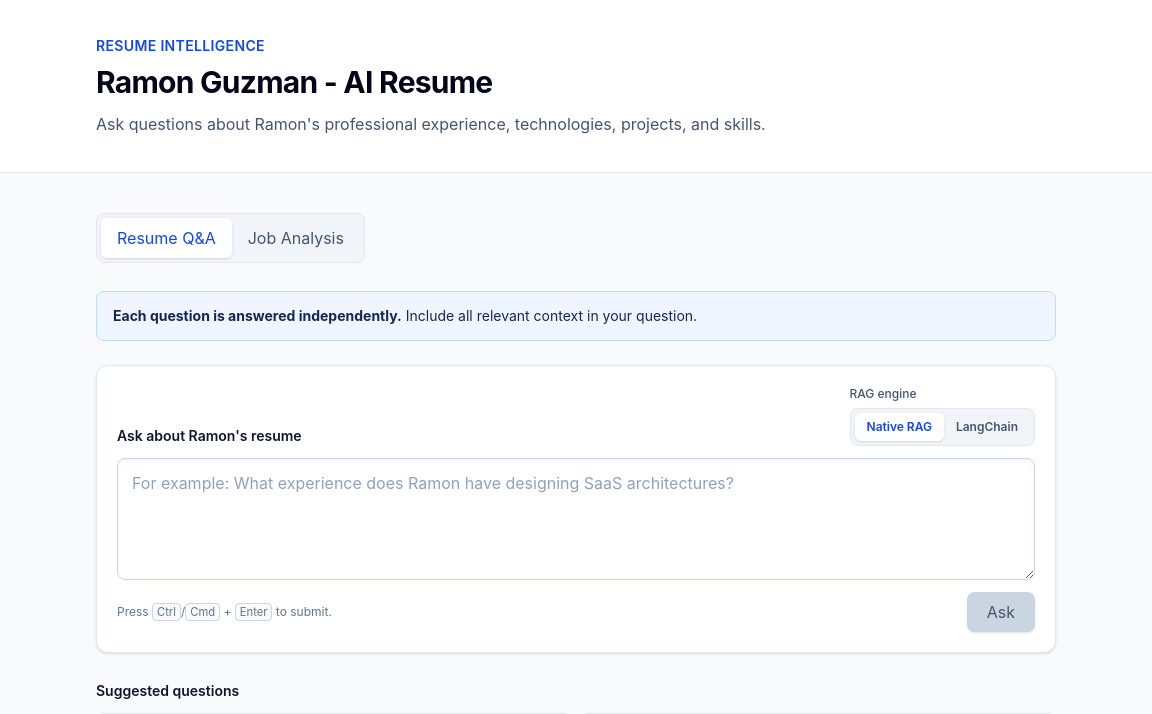
it: Job Analysis Agent › switches between the existing Resume Q&A and Job Analysis experiences
Click the tab "Job Analysis" at (296, 238), box [232,218,360,258]
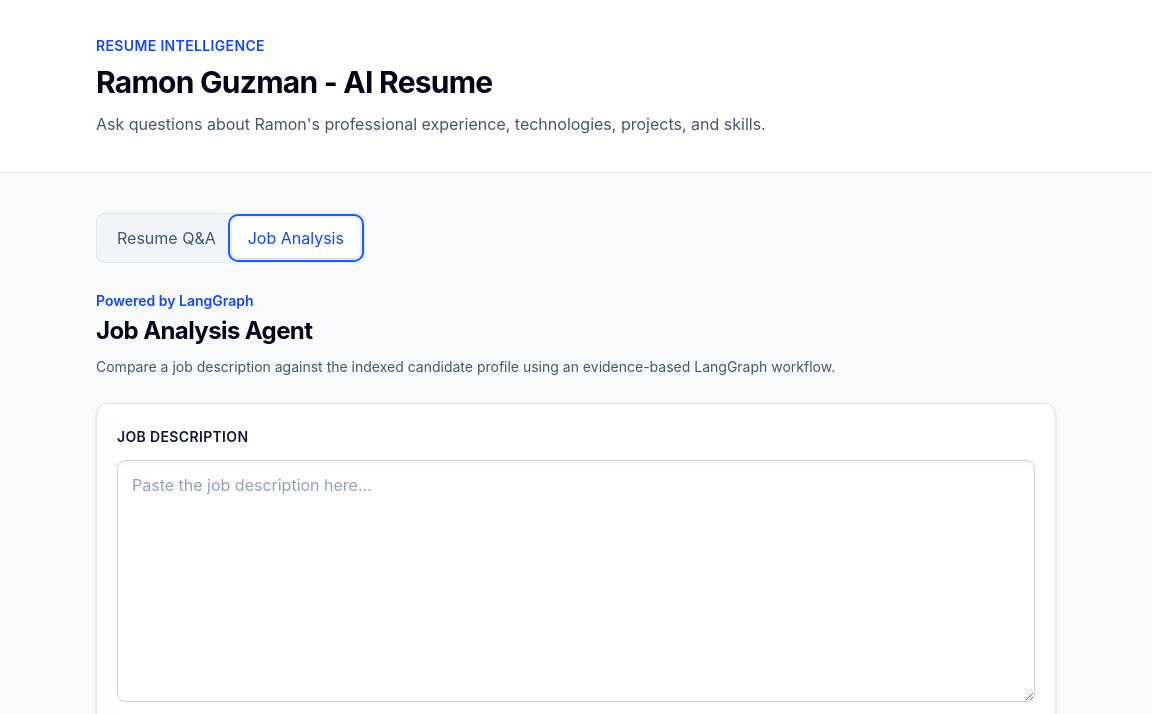
expect the heading "Job Analysis Agent" is shown: met, box [96,316,312,345]
expect the text "Powered by LangGraph" is shown: met, box [96,292,254,309]
